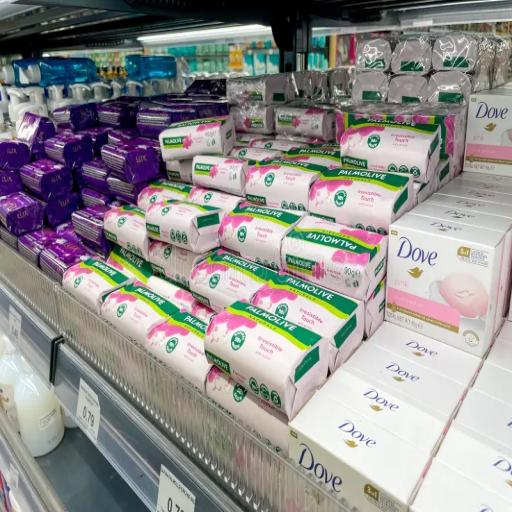Dove`1: (272, 384, 435, 512), (378, 211, 506, 361), (321, 358, 449, 457), (343, 327, 467, 426), (369, 309, 482, 389), (464, 94, 511, 175), (412, 199, 510, 235), (428, 181, 512, 222)
